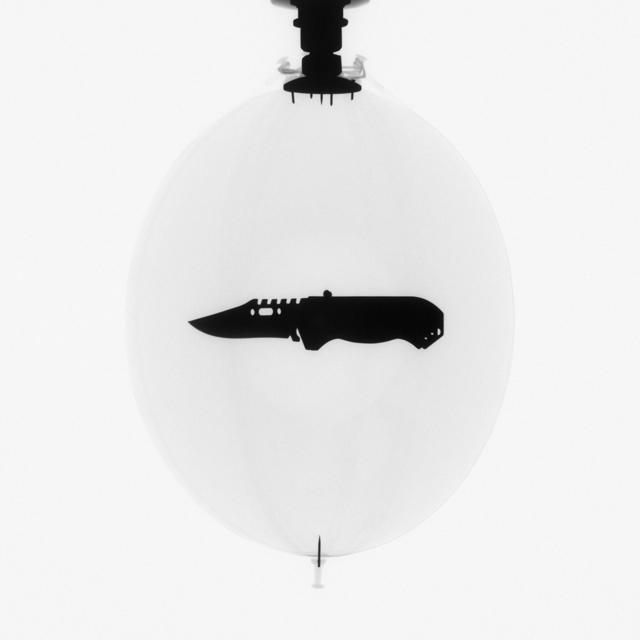knife: (182, 290, 454, 362)
